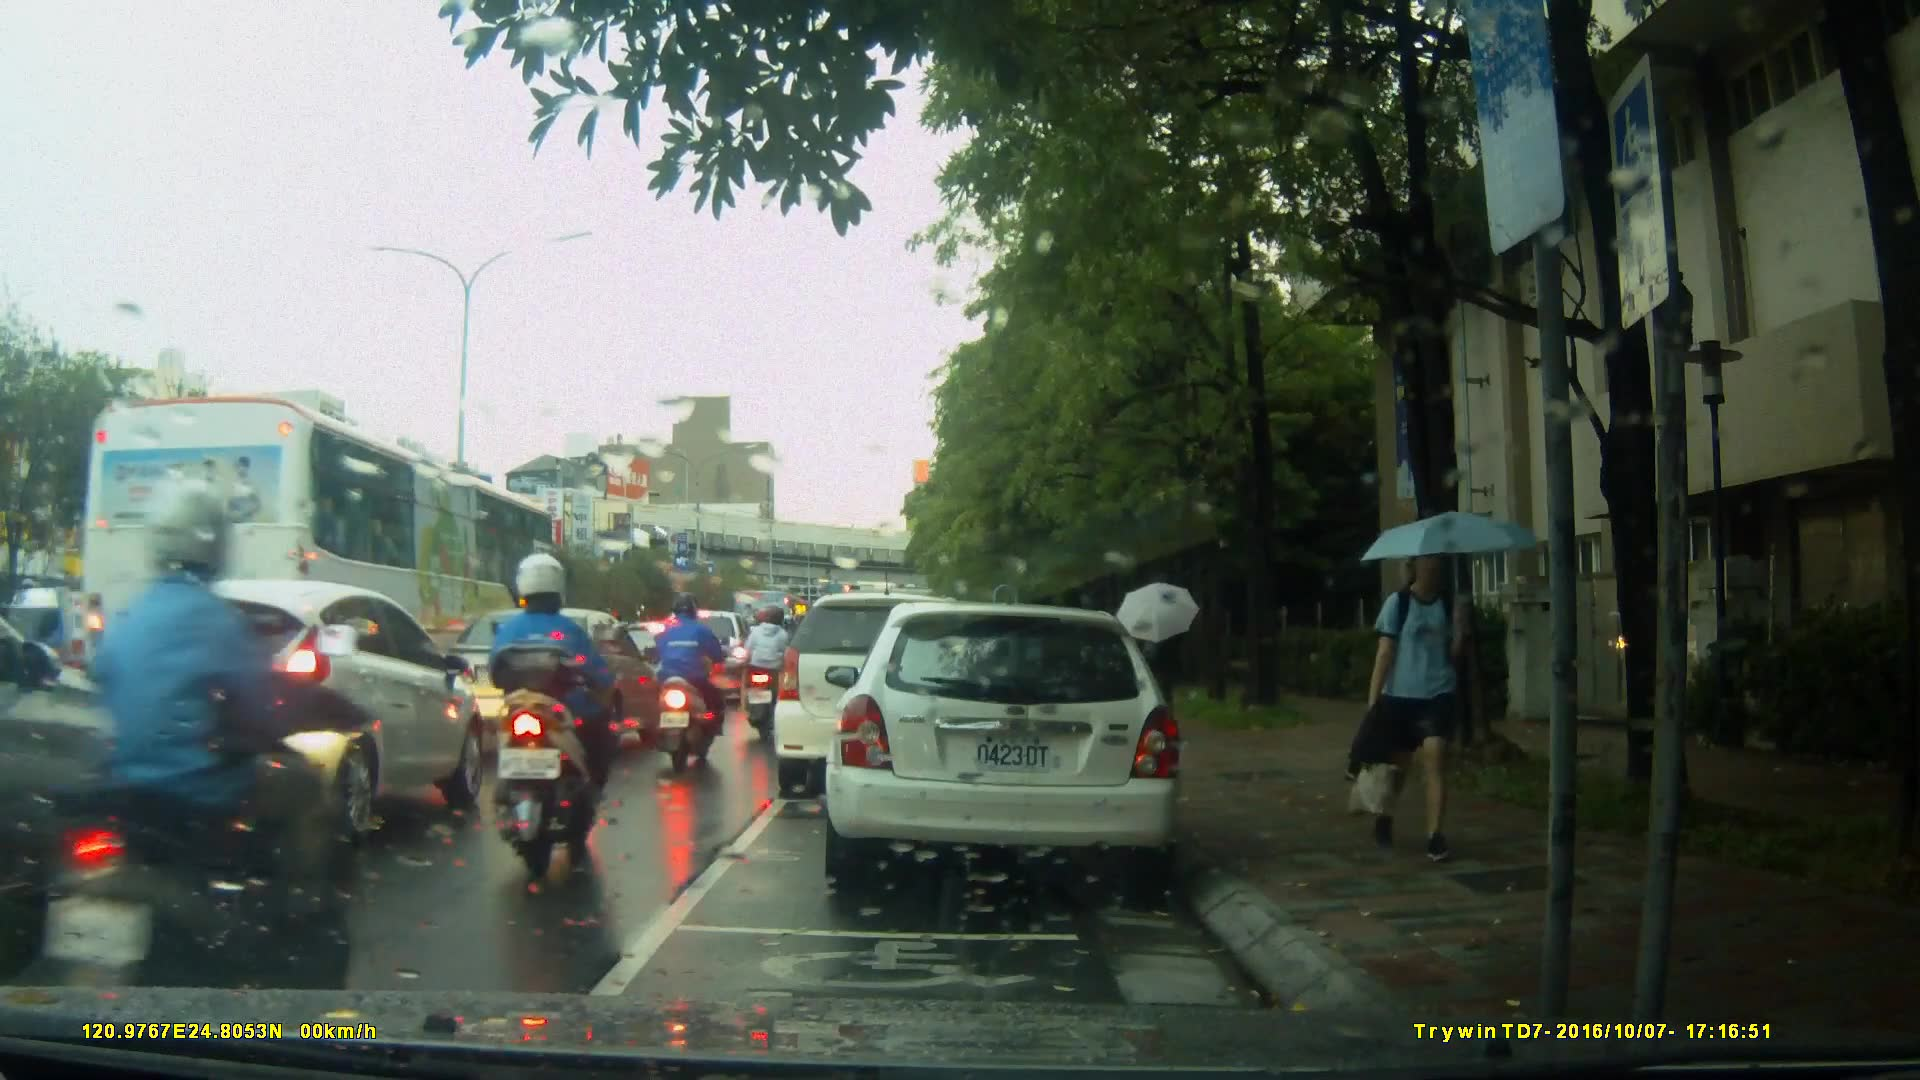pedestrian: (1346, 531, 1498, 864)
rider: (55, 474, 348, 1077), (485, 554, 625, 868), (650, 597, 729, 771), (748, 598, 806, 745)
vehicle: (80, 390, 565, 736), (835, 594, 1194, 898), (97, 576, 486, 846), (776, 590, 1026, 784), (421, 605, 664, 750), (1, 586, 155, 697), (610, 619, 721, 716)
